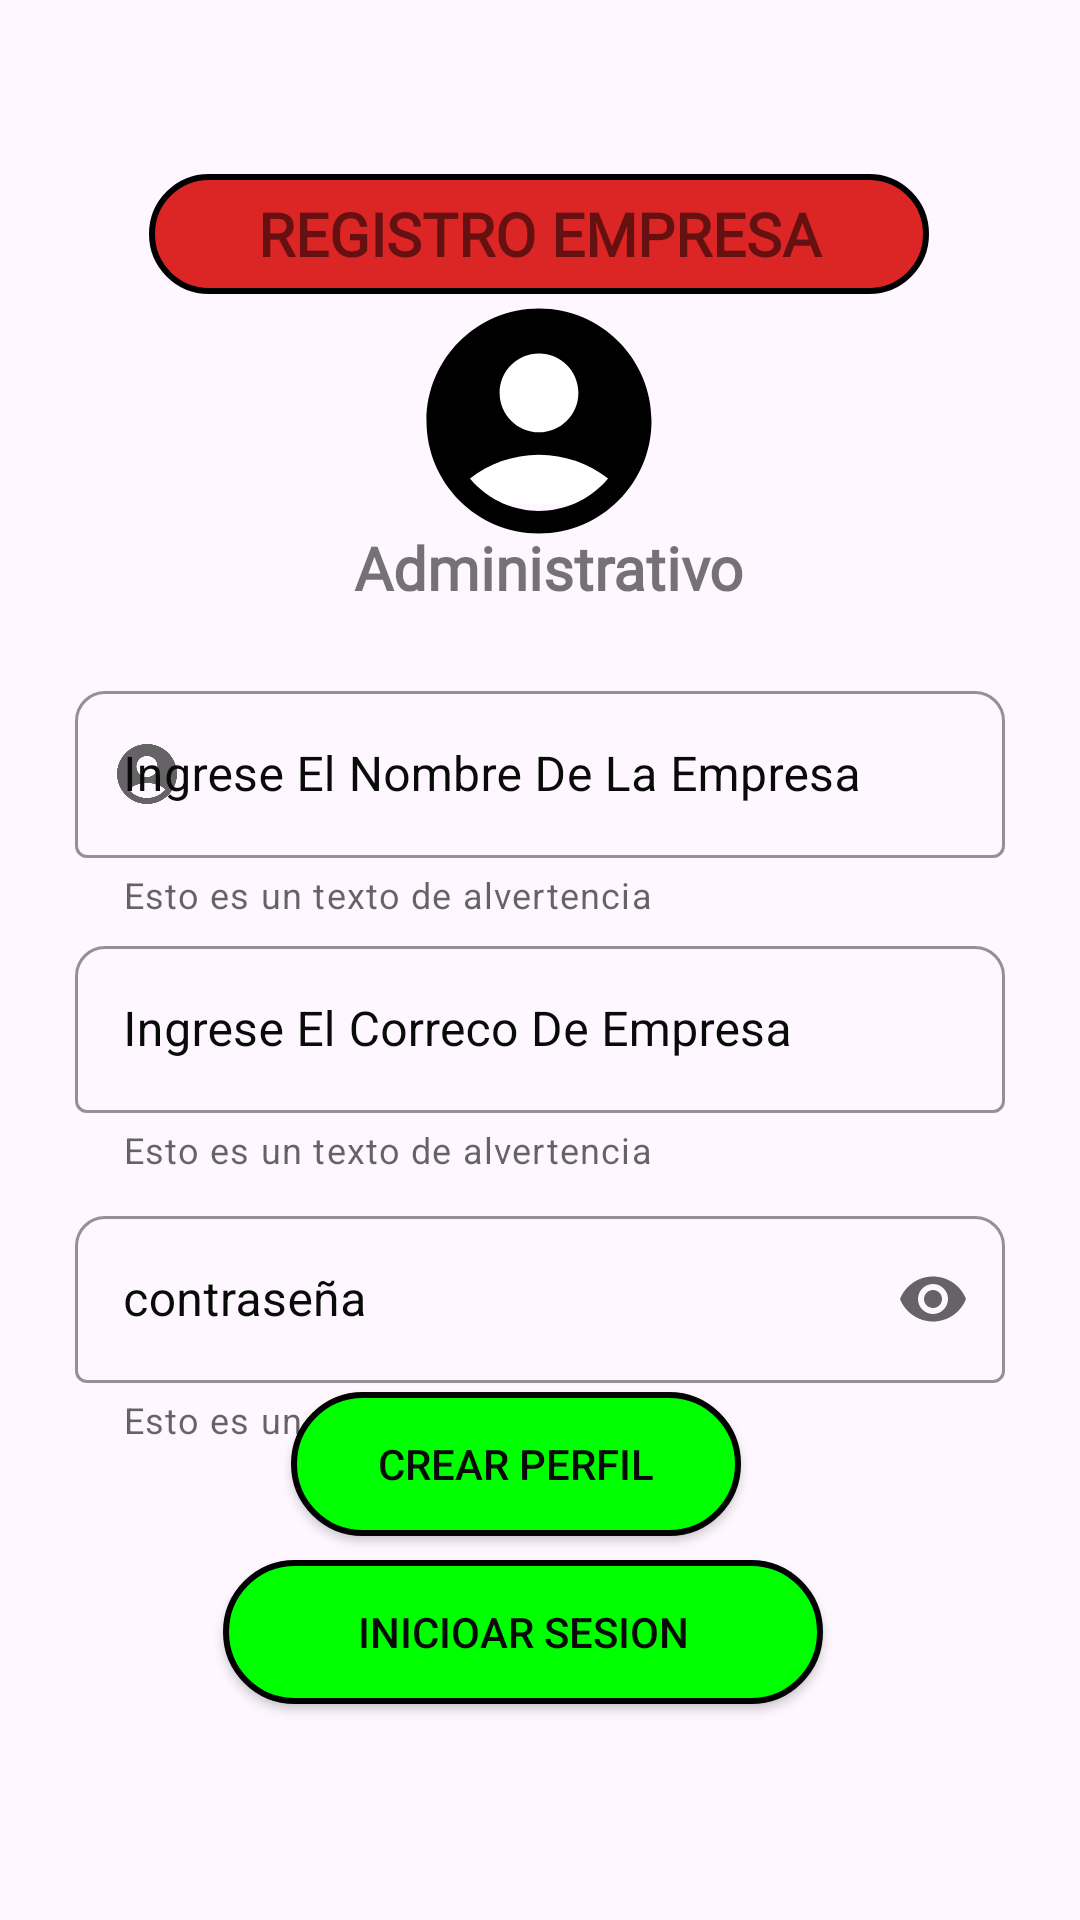

Point at icon controls on the screen. Image size 1080px x 1920px, points as (x=x, y=y).
user: (x=539, y=421)
